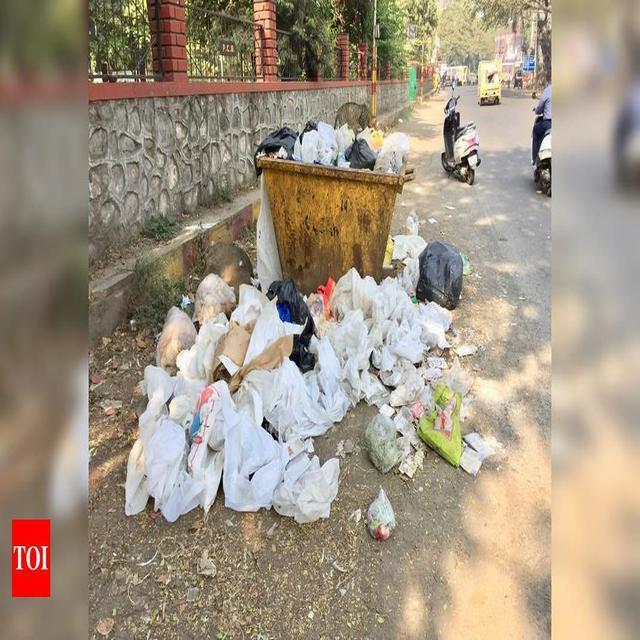garbage: (172, 258, 495, 541), (255, 106, 417, 180), (125, 360, 173, 534), (394, 214, 469, 304)
